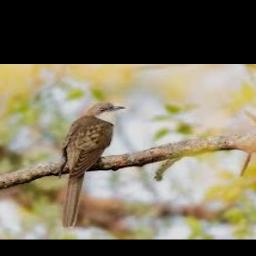Cuckoo: (60, 102, 127, 231)
